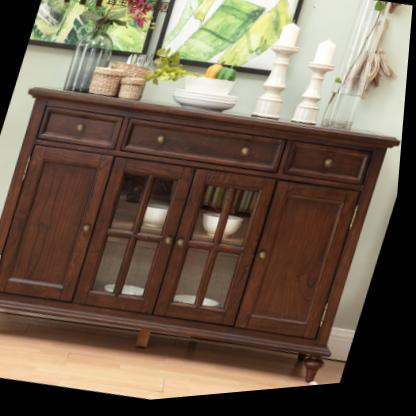Cupboard: (0, 88, 403, 389)
